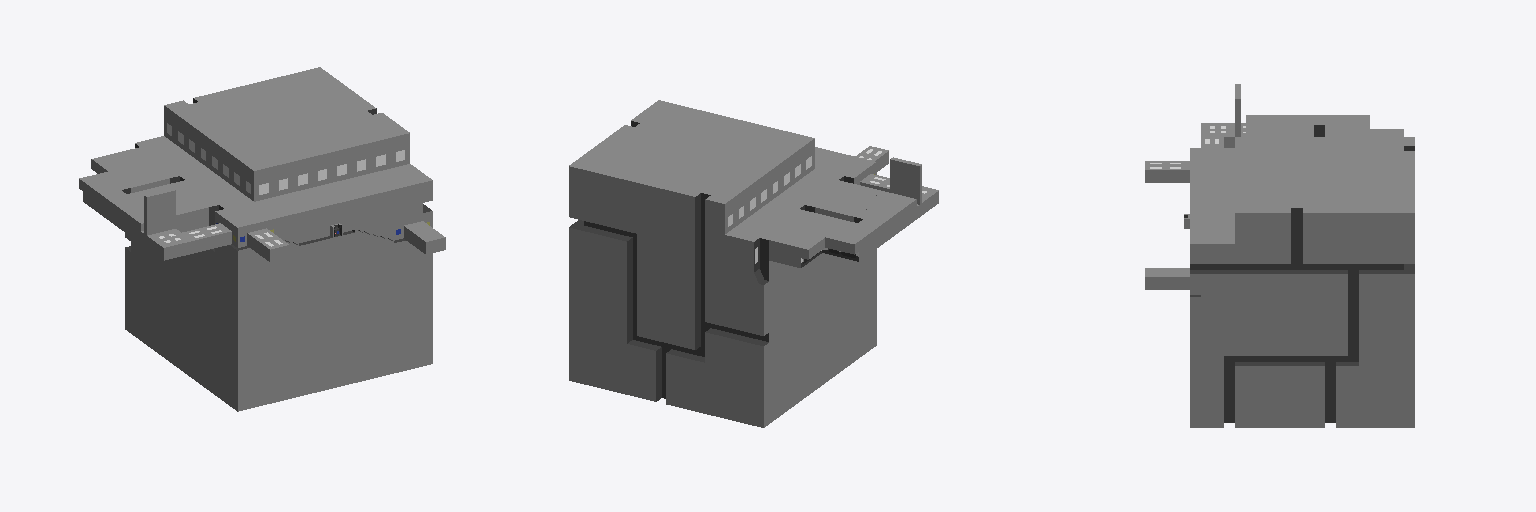
File: dangomap.obj
3 views of the same model, side by side, from view 1: azimuth 30°, elevation 25°; view 2: azimuth 150°, elevation 25°; view 3: azimuth 270°, elevation 25° (orthographic).
Visible parts, largest first — view 1: bsp_model_0; view 2: bsp_model_0; view 3: bsp_model_0.
Part boxes in pixels (left/top/right/bottom): bsp_model_0: left=79, top=67, right=445, bottom=411; bsp_model_0: left=569, top=100, right=938, bottom=427; bsp_model_0: left=1145, top=84, right=1414, bottom=427.
Size of the model in its own units: 10800 by 8400 by 9600.